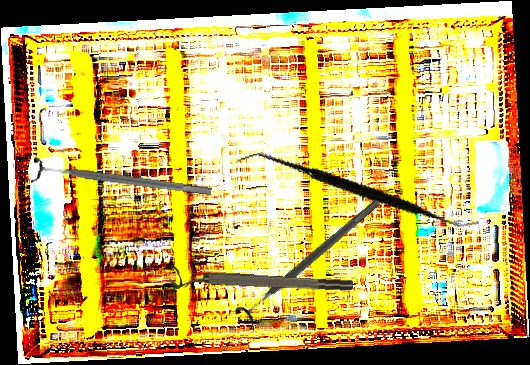Fixation Ring: (232, 190, 389, 332), (30, 155, 214, 206), (168, 264, 354, 302)
Spatula Surgical: (237, 105, 480, 279)
